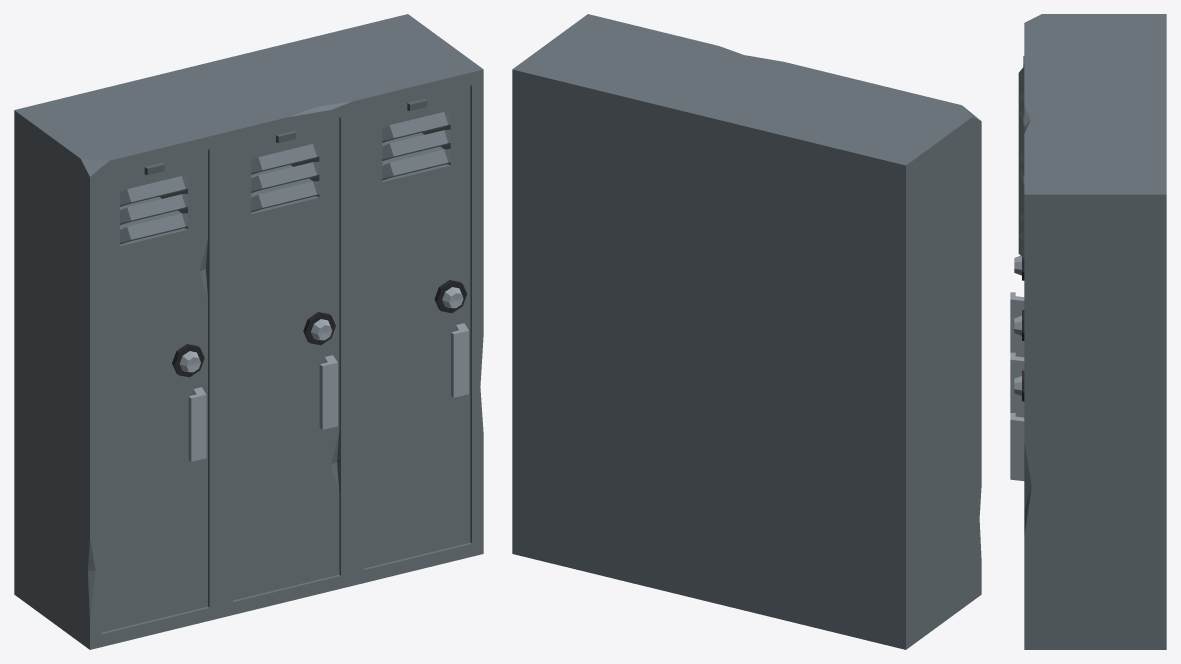
The model's file is SM_Prop_Locker_02.fbx.
3 views of the same model, side by side, from view 1: azimuth 30°, elevation 25°; view 2: azimuth 150°, elevation 25°; view 3: azimuth 270°, elevation 25° (orthographic). The views are drawn at different scales.
Parts seen in each view (by area): view 1: SM_Prop_Locker_02; view 2: SM_Prop_Locker_02; view 3: SM_Prop_Locker_02.
Boxes of the visible parts, x1=… form: SM_Prop_Locker_02: x1=14, y1=14, x2=483, y2=649; SM_Prop_Locker_02: x1=512, y1=14, x2=981, y2=649; SM_Prop_Locker_02: x1=1010, y1=14, x2=1166, y2=649.
Bounding box in the file's own units: 124 × 146 × 45.4.
1 material, 1 textured.
